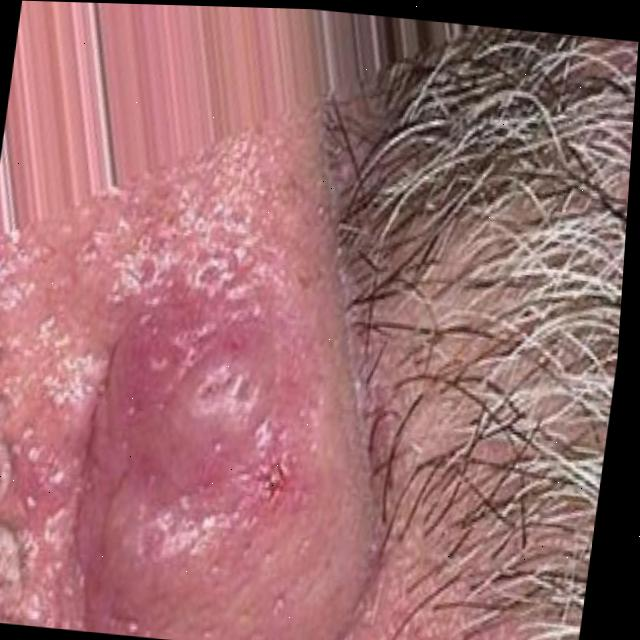Rosacea: (67, 279, 285, 511)
